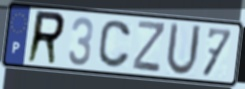3: (67, 15, 95, 67)
7: (201, 26, 233, 79)
C: (96, 19, 133, 71)
R: (25, 9, 68, 67)
U: (164, 20, 203, 79)
Z: (131, 19, 167, 76)
